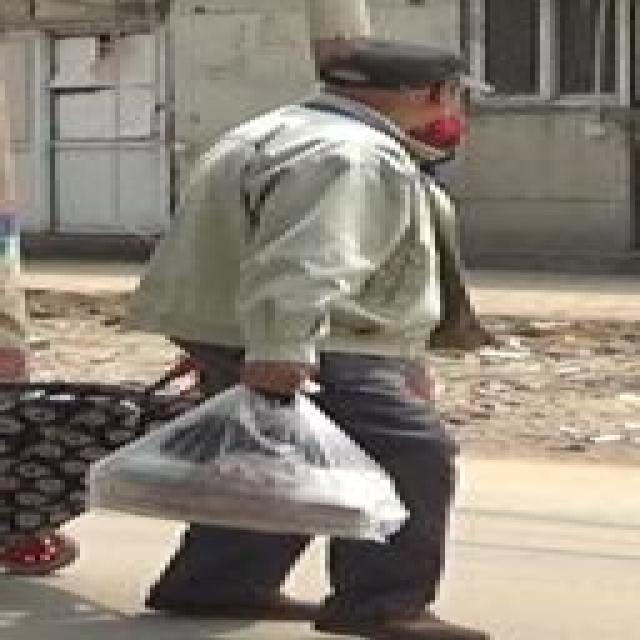adult: (101, 37, 549, 640)
